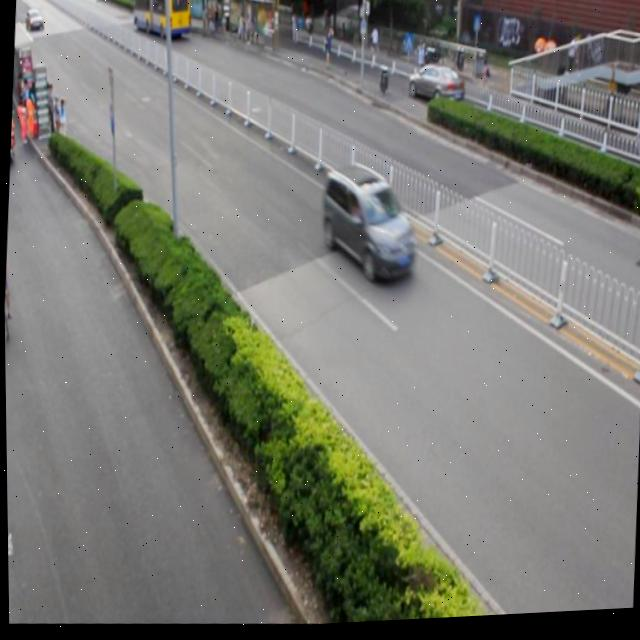car: (318, 166, 420, 292), (405, 64, 466, 120)
